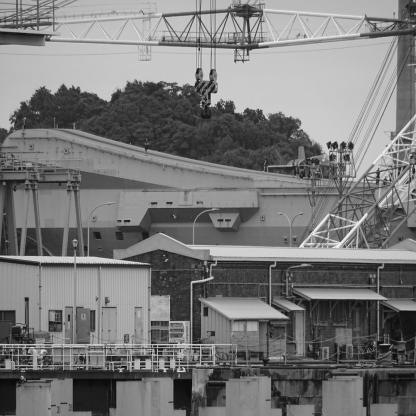F35: (264, 147, 339, 179)
